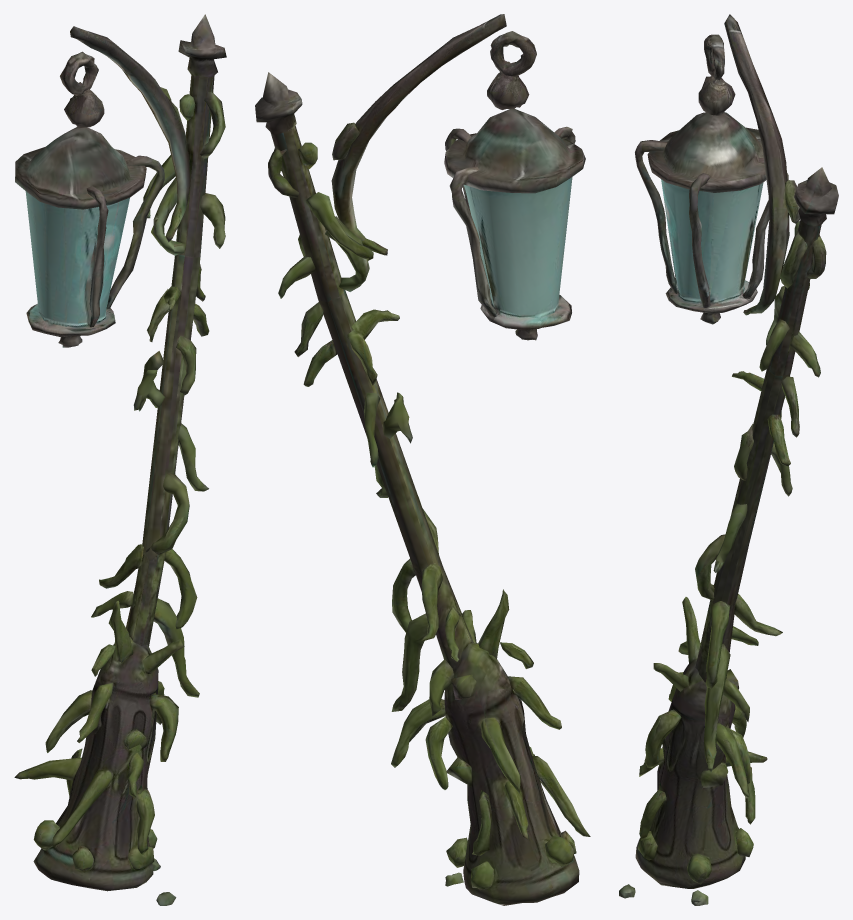
The model's file is cs_luminaria.glb.
3 views of the same model, side by side, from view 1: azimuth 30°, elevation 25°; view 2: azimuth 150°, elevation 25°; view 3: azimuth 270°, elevation 25° (orthographic). The views are drawn at different scales.
Parts seen in each view (by area): view 1: mesh_node; view 2: mesh_node; view 3: mesh_node.
Part boxes in pixels (box(x1,y1,x2,y2)): mesh_node: box(14, 14, 226, 905); mesh_node: box(255, 14, 590, 905); mesh_node: box(619, 14, 838, 905).
Size of the model in its own units: 0.1855 by 0.6172 by 0.1429.
Materials: 1 (1 with a texture image).
